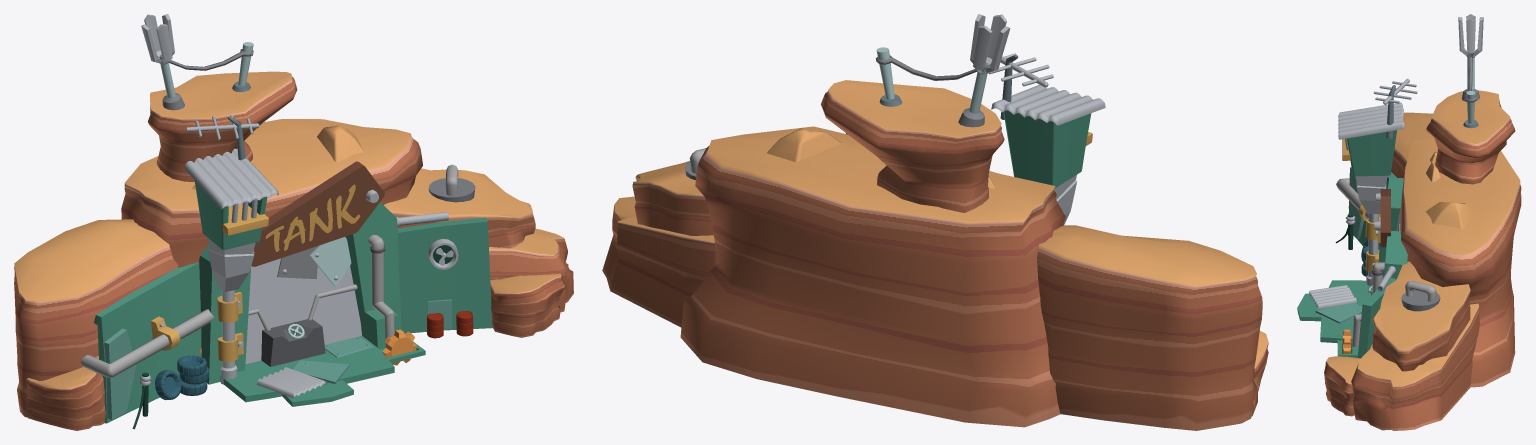
Rendered from BO_House_02.fbx.
3 renders of one model, left to right at view 1: azimuth 30°, elevation 25°; view 2: azimuth 150°, elevation 25°; view 3: azimuth 270°, elevation 25°, orthographic. The views are drawn at different scales.
Parts seen in each view (by area): view 1: BO_House_02; view 2: BO_House_02; view 3: BO_House_02.
Boxes of the visible parts, left/top/right/bottom form: BO_House_02: left=14, top=14, right=573, bottom=430; BO_House_02: left=602, top=14, right=1268, bottom=430; BO_House_02: left=1297, top=14, right=1521, bottom=430.
Bounding box in the file's own units: 3033 × 1764 × 1305.
2 materials, 1 textured.
